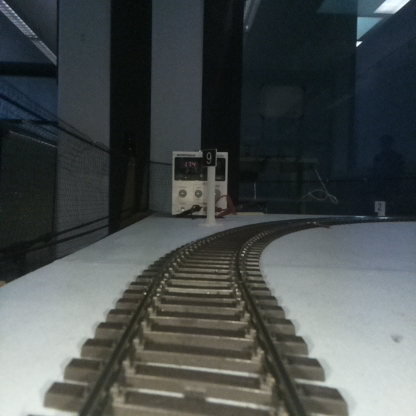black-info-9: (203, 148, 216, 225)
